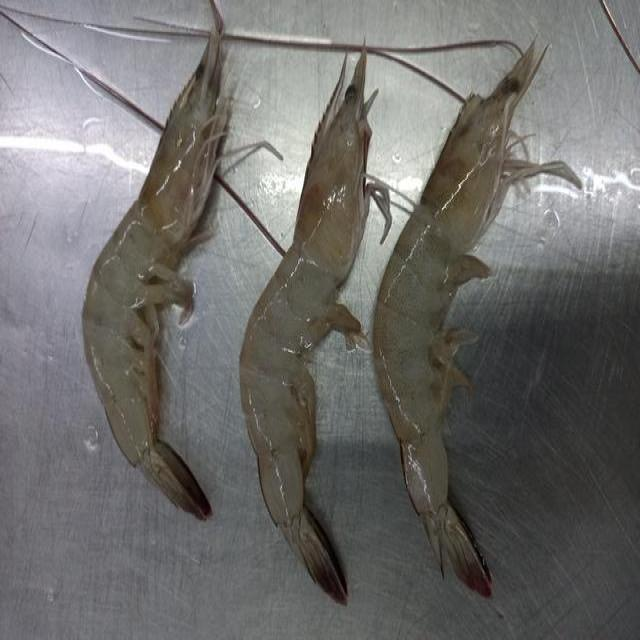shrimp: (374, 43, 582, 597), (240, 52, 390, 604), (82, 5, 229, 519)
